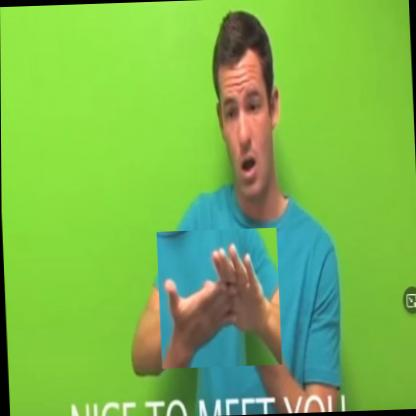NiceToMeetYou: (156, 228, 282, 368)
